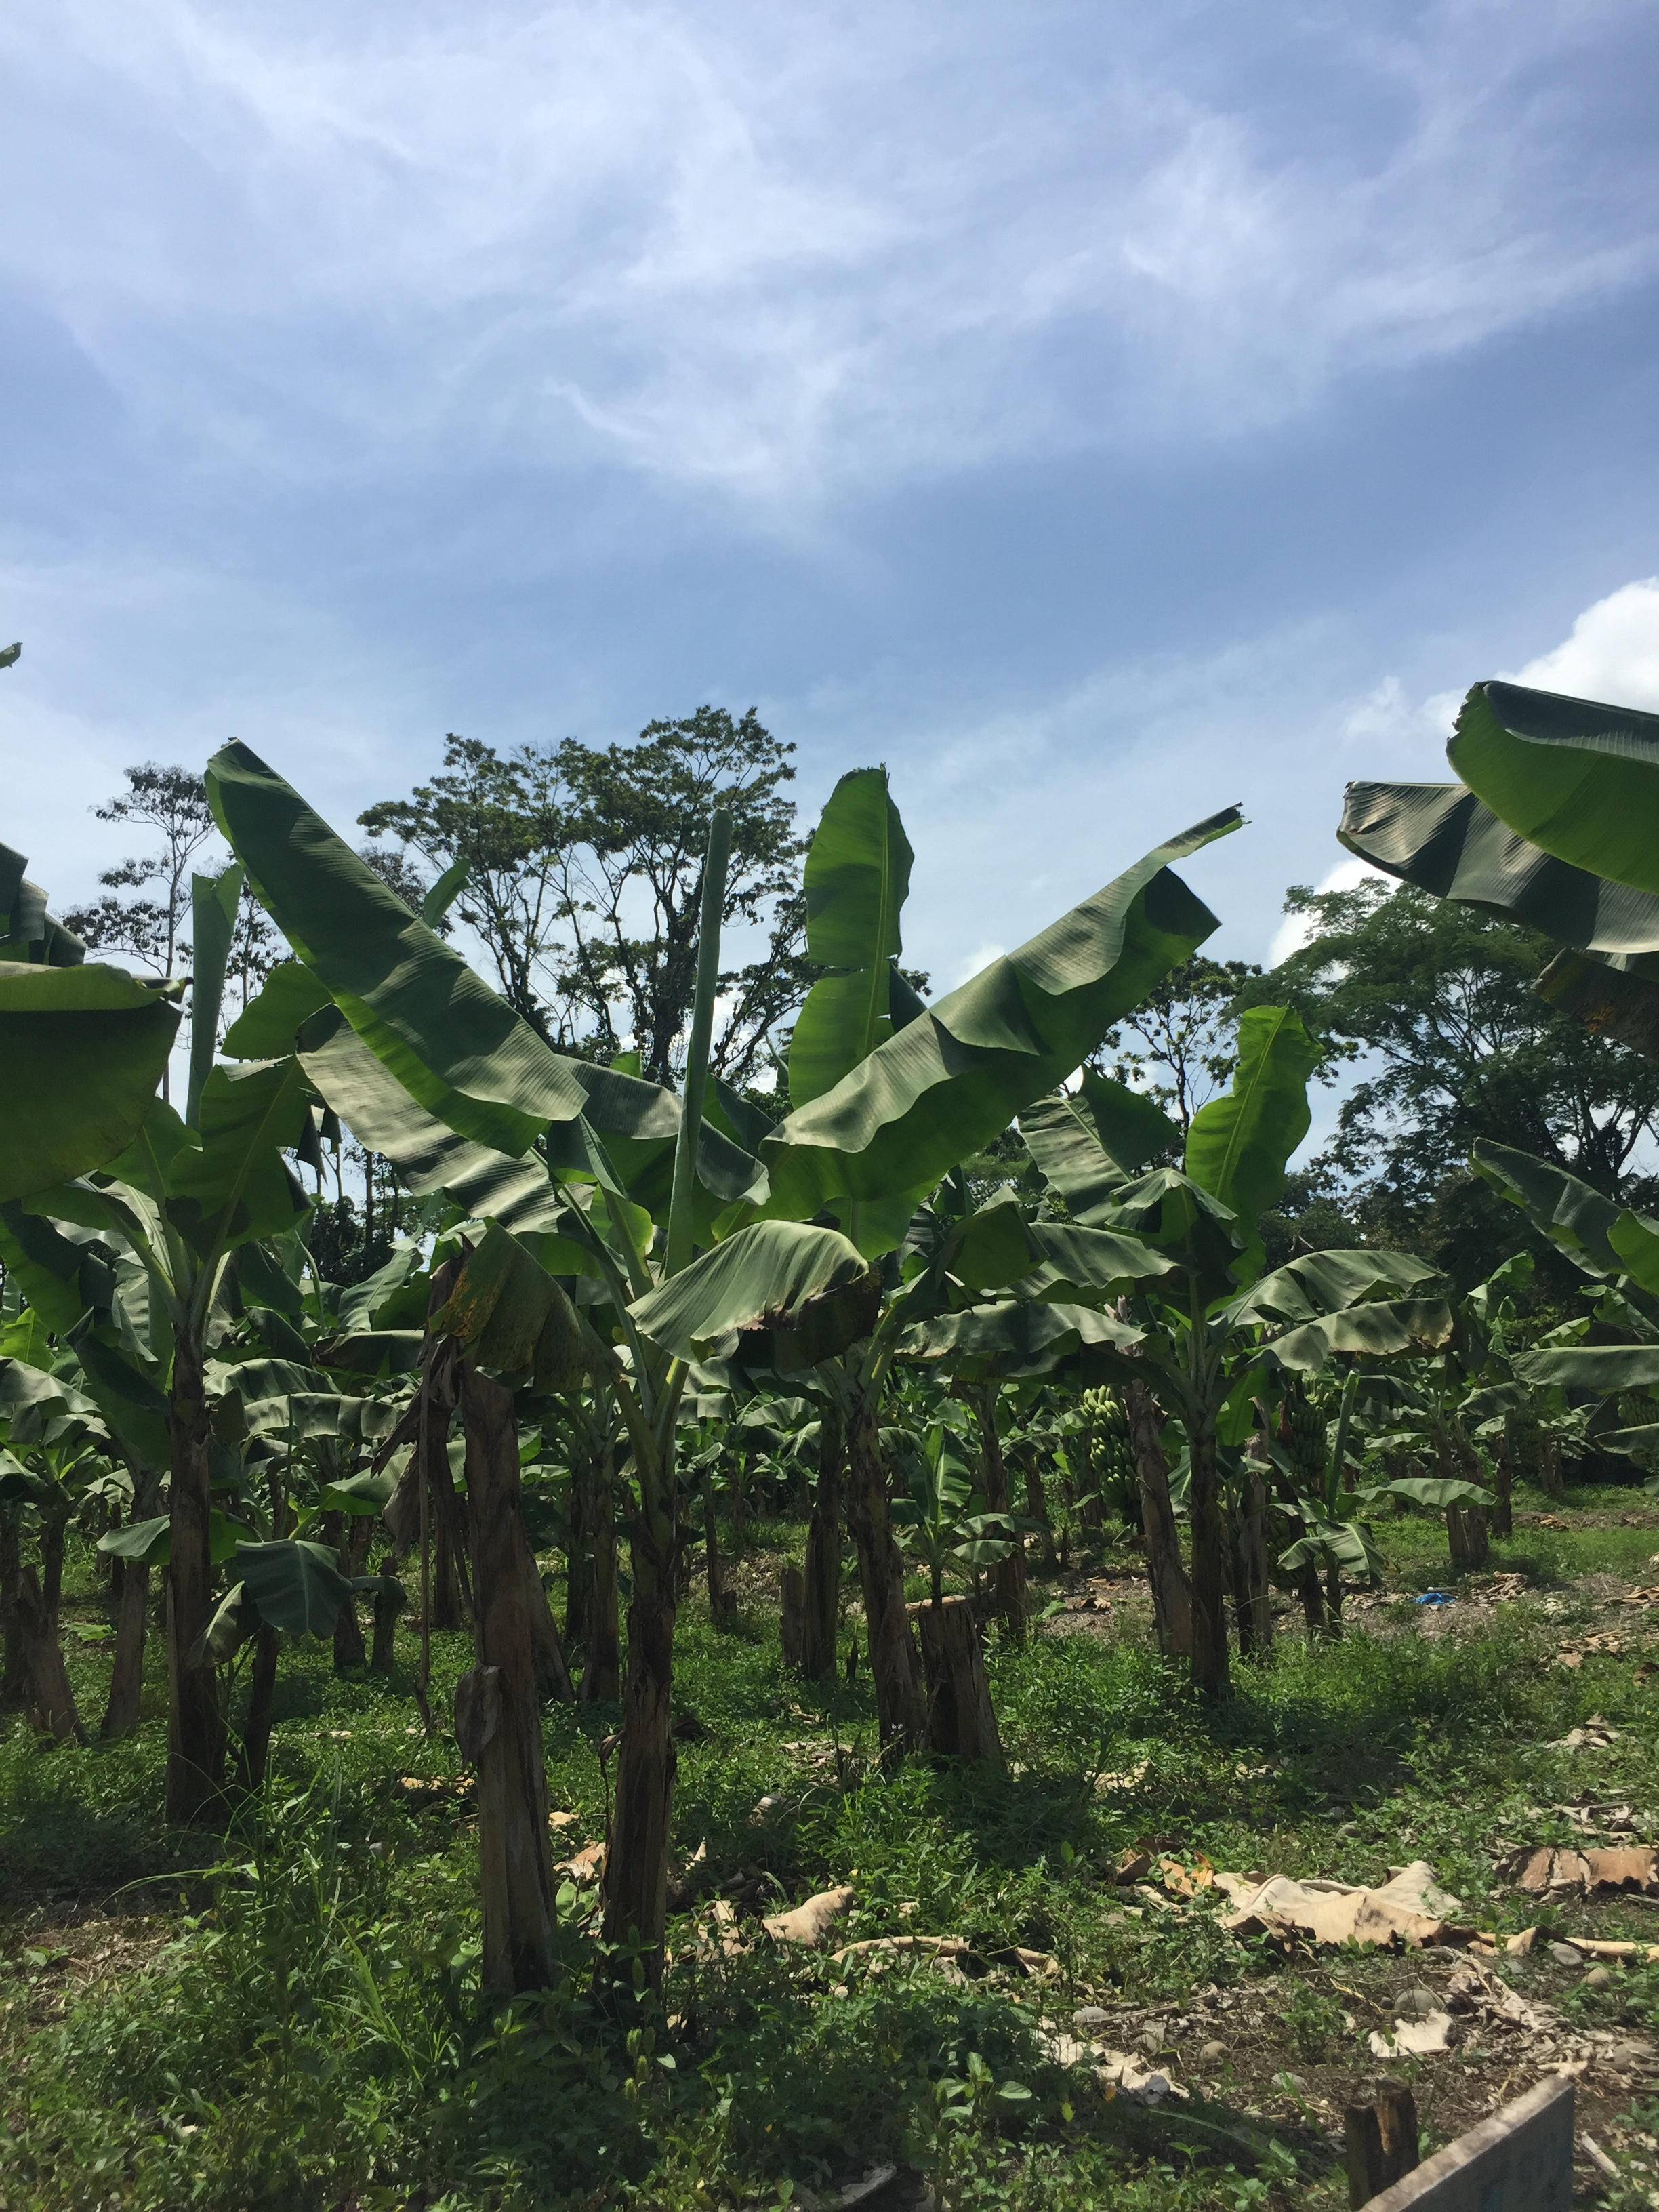candleleafs: (662, 806, 735, 1278), (186, 864, 246, 1122), (1328, 1369, 1364, 1515)
